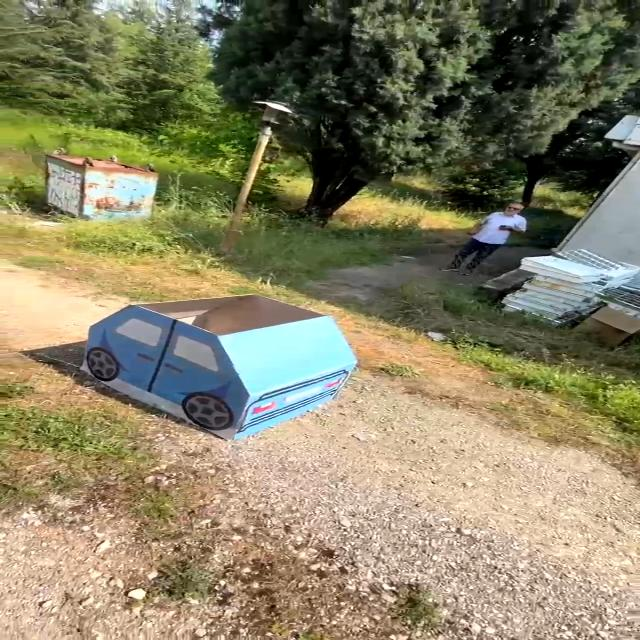blue_car: (71, 274, 363, 446)
